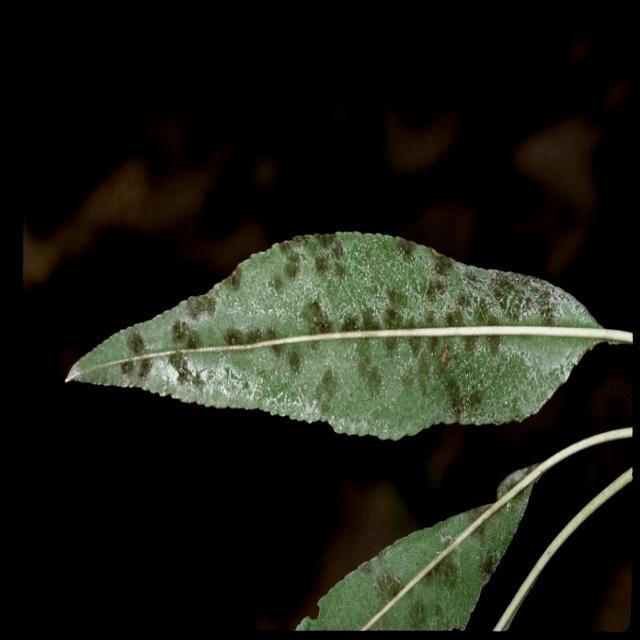shot_hole: (52, 211, 620, 448), (262, 451, 536, 634)
